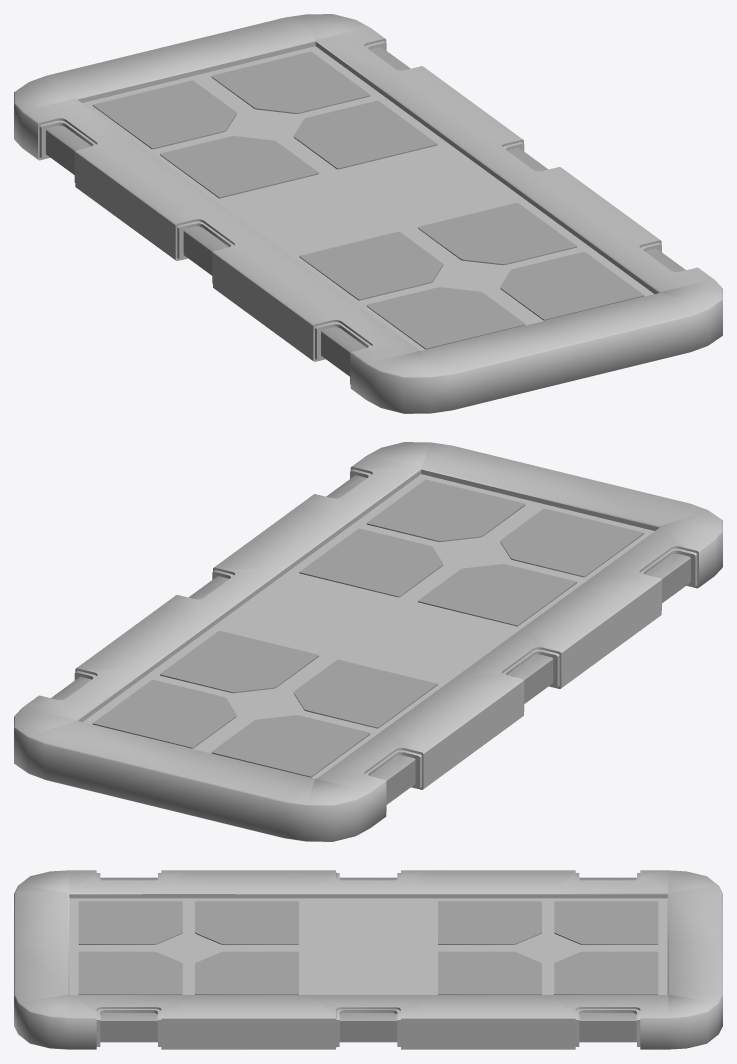
Rendered from Platform_1.FBX.
3 renders of one model, top to bottom at view 1: azimuth 30°, elevation 25°; view 2: azimuth 150°, elevation 25°; view 3: azimuth 270°, elevation 25°, orthographic. The views are drawn at different scales.
Visible parts, largest first — view 1: Platform_1; view 2: Platform_1; view 3: Platform_1.
Part boxes in pixels (x1,y1,x2,y2): Platform_1: [14, 14, 722, 413]; Platform_1: [14, 442, 722, 841]; Platform_1: [14, 870, 722, 1049].
Size of the model in its own units: 205 by 21.08 by 415.
Materials: 1 (1 with a texture image).
